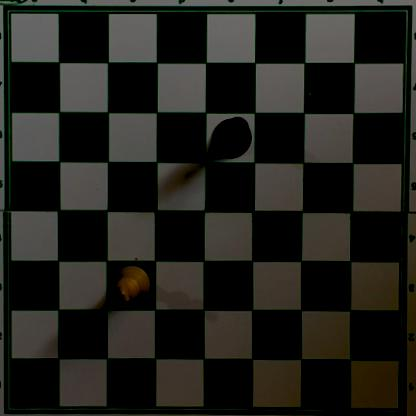black-king: (212, 116, 252, 158)
white-king: (111, 265, 151, 305)
